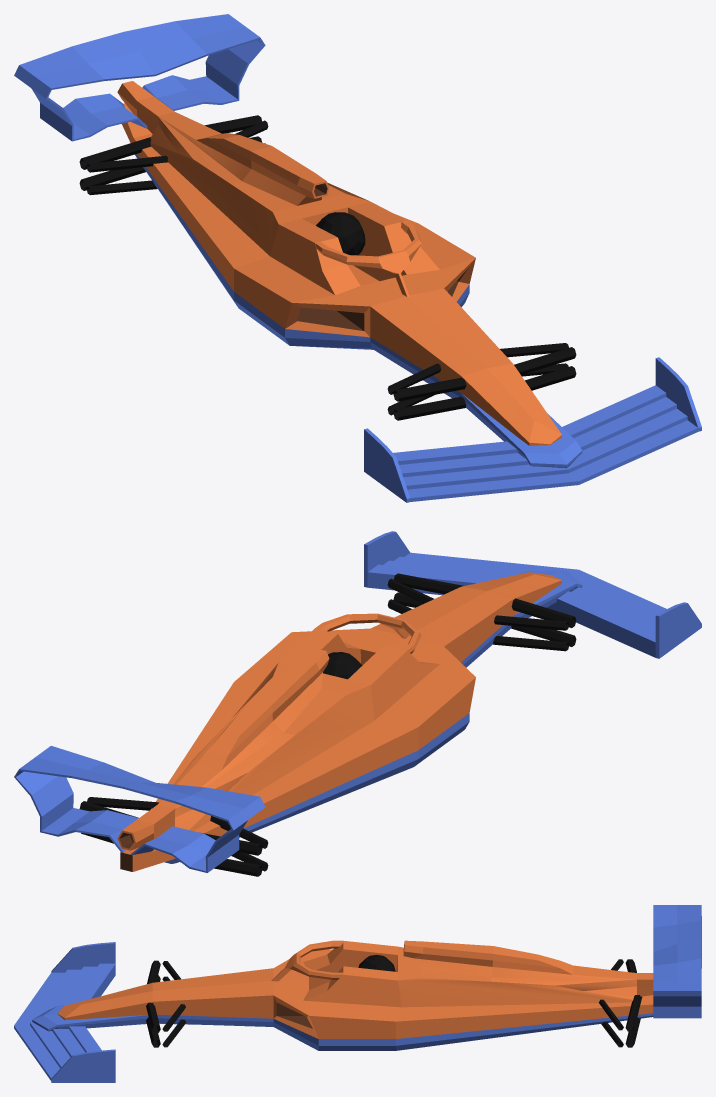
File: Car.gltf
3 views of the same model, one above another, from view 1: azimuth 30°, elevation 25°; view 2: azimuth 150°, elevation 25°; view 3: azimuth 270°, elevation 25° (orthographic). The views are drawn at different scales.
Parts seen in each view (by area): view 1: Body 03, Body 02, Front wing, Spoiler, Body 01, Axel Front, Axel Back, Torus, Helmet; view 2: Body 03, Body 02, Spoiler, Front wing, Axel Front, Body 01, Axel Back, Torus, Helmet; view 3: Body 03, Body 02, Front wing, Body 01, Spoiler, Axel Front, Axel Back, Torus, Helmet.
Part boxes in pixels (x1=…): Body 03: x1=117, y1=81, x2=475, y2=302; Body 02: x1=122, y1=103, x2=561, y2=445; Front wing: x1=364, y1=357, x2=701, y2=502; Spoiler: x1=14, y1=14, x2=265, y2=141; Body 01: x1=134, y1=154, x2=582, y2=468; Axel Front: x1=387, y1=343, x2=576, y2=420; Axel Back: x1=79, y1=115, x2=268, y2=195; Torus: x1=315, y1=220, x2=421, y2=297; Helmet: x1=316, y1=212, x2=365, y2=255; Body 03: x1=117, y1=628, x2=475, y2=850; Body 02: x1=120, y1=572, x2=561, y2=871; Spoiler: x1=14, y1=745, x2=265, y2=872; Front wing: x1=364, y1=531, x2=701, y2=658; Axel Front: x1=387, y1=573, x2=576, y2=651; Body 01: x1=164, y1=570, x2=582, y2=863; Axel Back: x1=79, y1=797, x2=268, y2=876; Torus: x1=315, y1=613, x2=421, y2=653; Helmet: x1=323, y1=652, x2=361, y2=679; Body 03: x1=303, y1=940, x2=653, y2=1021; Body 02: x1=57, y1=955, x2=653, y2=1038; Front wing: x1=14, y1=942, x2=115, y2=1082; Body 01: x1=32, y1=1005, x2=653, y2=1050; Spoiler: x1=653, y1=905, x2=701, y2=1018; Axel Front: x1=146, y1=960, x2=186, y2=1047; Axel Back: x1=599, y1=959, x2=642, y2=1047; Torus: x1=271, y1=940, x2=343, y2=981; Helmet: x1=358, y1=955, x2=395, y2=971.
Bounding box in the file's own units: 2 × 0.7765 × 5.34.
